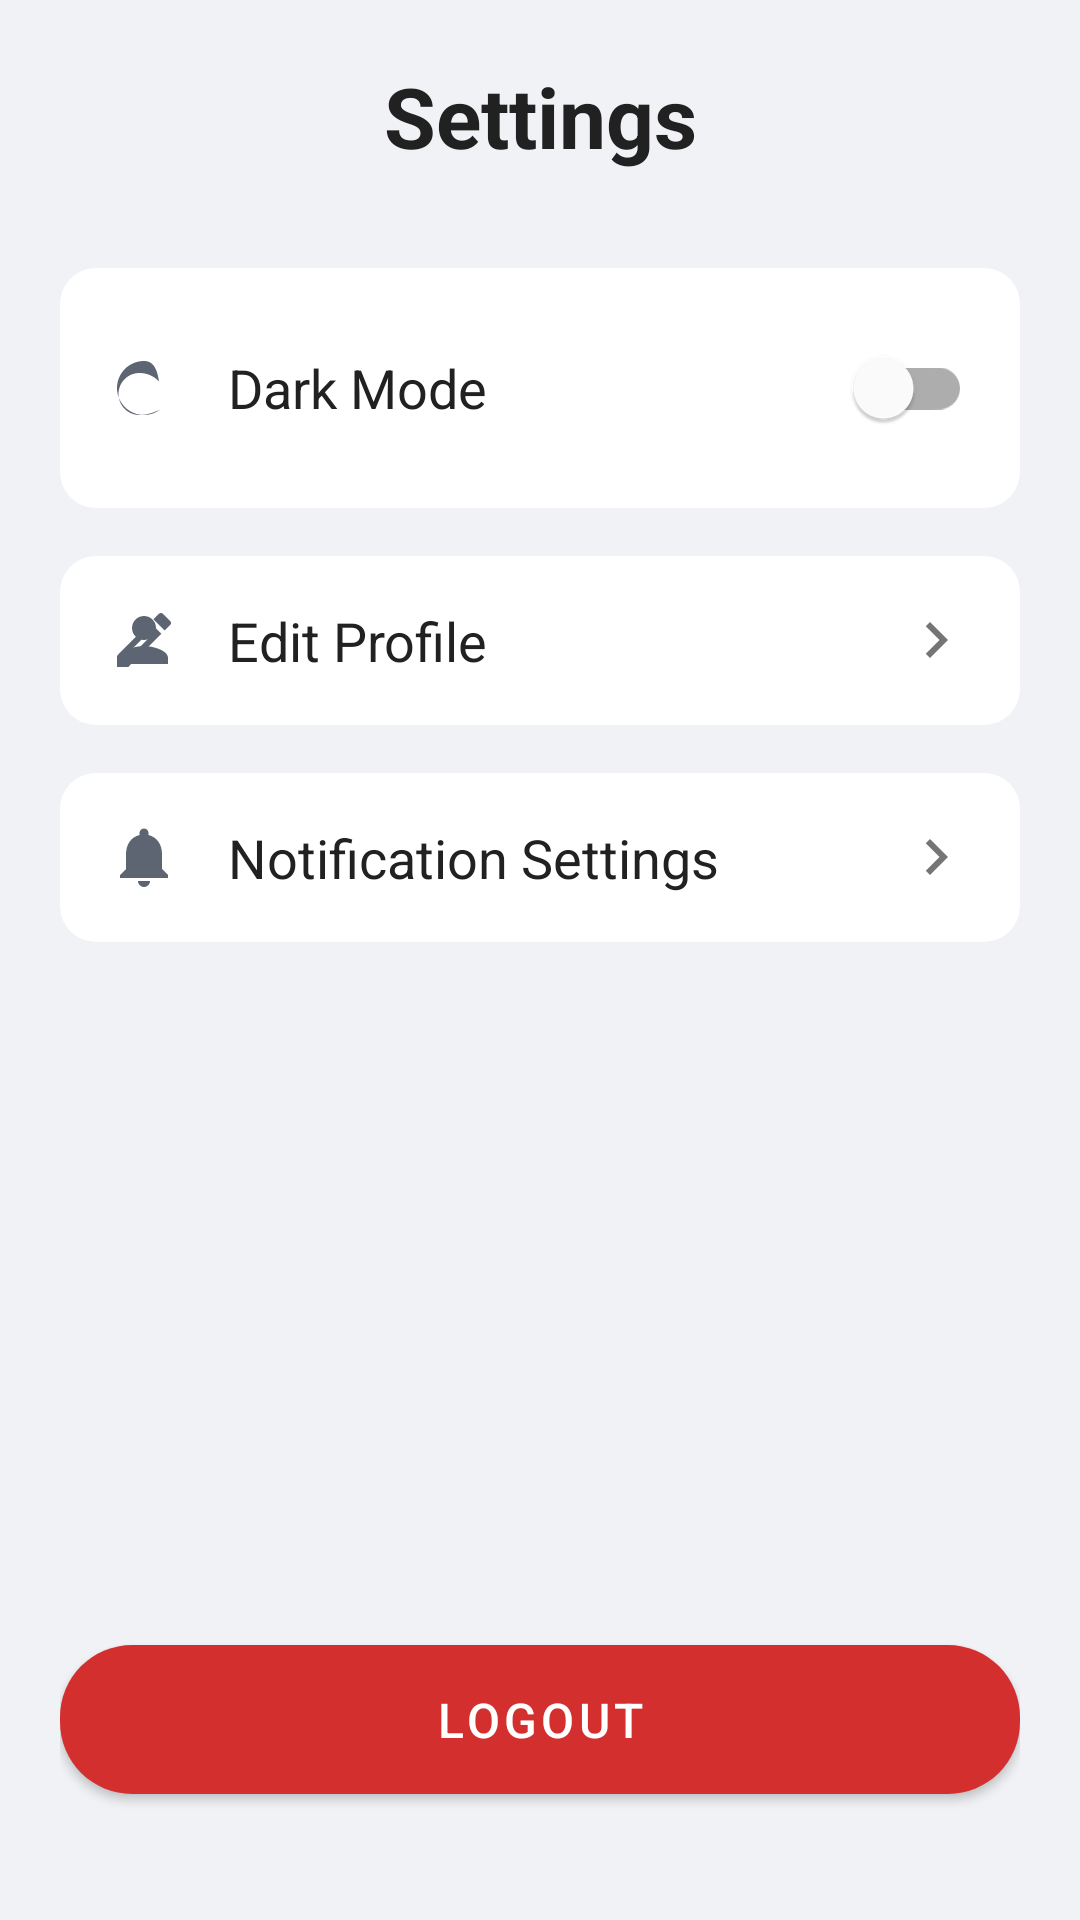

Where icons sit on this 1080 x 1920 app screen, as (x1, y1, x2, y2):
Navigate: (926, 622, 948, 658), (926, 839, 948, 875)
Notifications icon: (120, 828, 168, 887)
